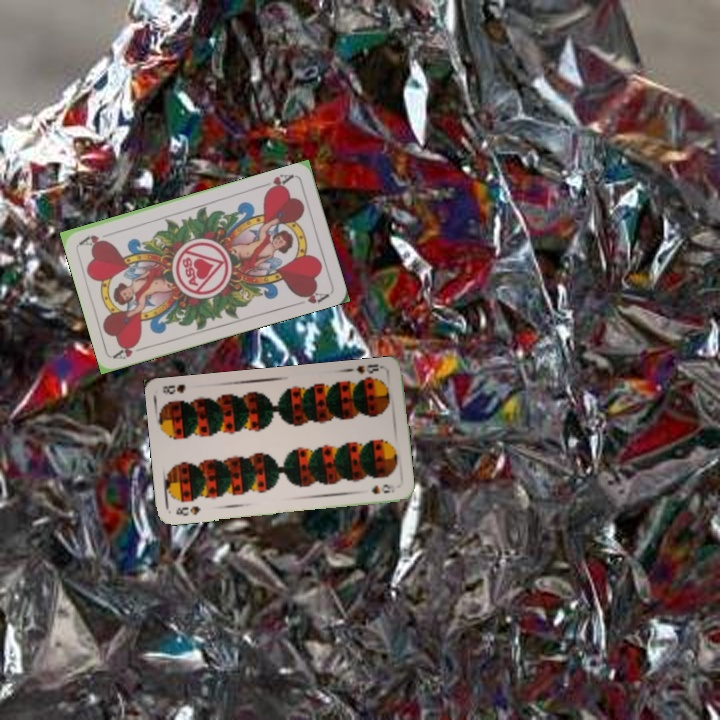HA: (257, 170, 297, 195), (111, 338, 151, 362)
S8: (352, 360, 387, 377), (172, 502, 203, 518)
